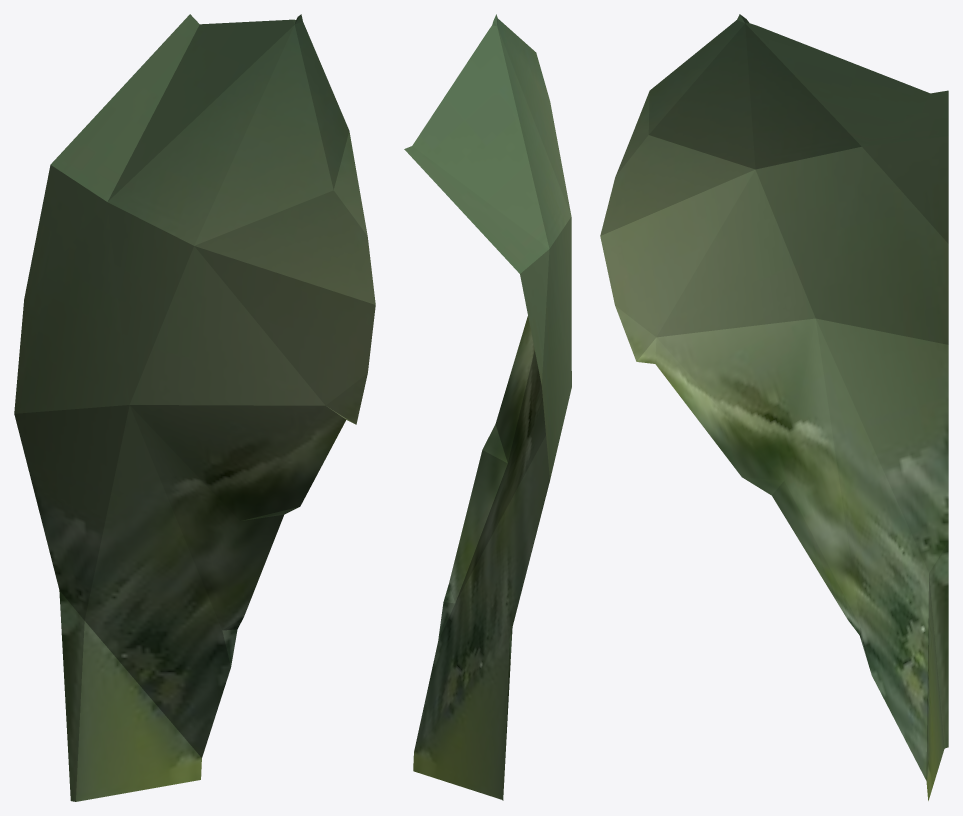
3 renders of one model, left to right at view 1: azimuth 30°, elevation 25°; view 2: azimuth 150°, elevation 25°; view 3: azimuth 270°, elevation 25°, orthographic. The views are drawn at different scales.
Size of the model in its own units: 0.5668 by 2.58 by 1.04.
1 material, 1 textured.
